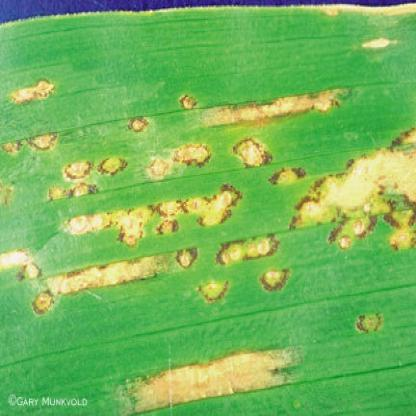corn rust leaf: (1, 16, 415, 392)
